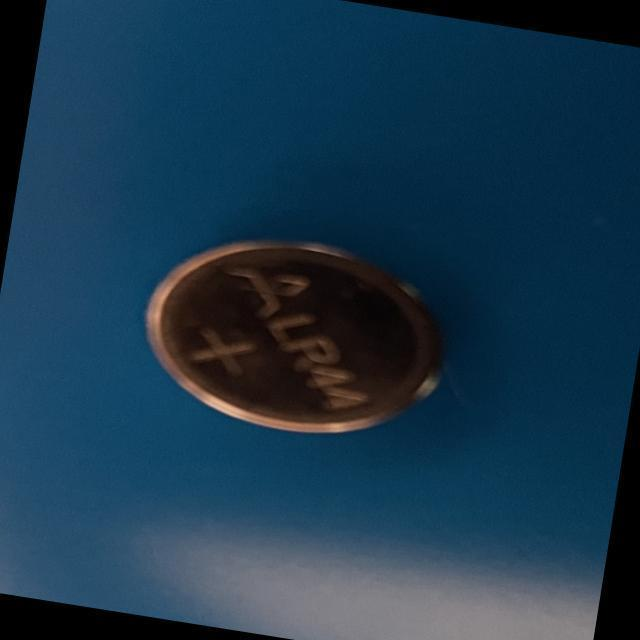COIN: (130, 218, 458, 452)
